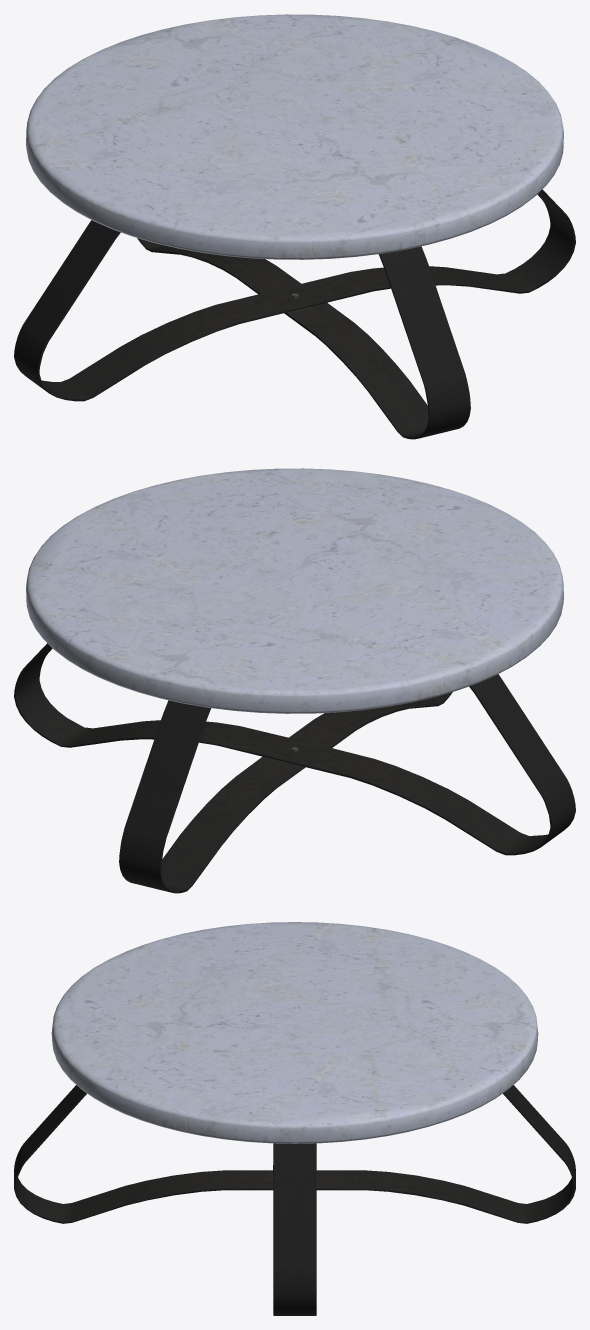
File: coffee_table_round_01.glb
3 views of the same model, one above another, from view 1: azimuth 30°, elevation 25°; view 2: azimuth 150°, elevation 25°; view 3: azimuth 270°, elevation 25° (orthographic). The views are drawn at different scales.
Visible parts, largest first — view 1: coffee_table_round_01; view 2: coffee_table_round_01; view 3: coffee_table_round_01.
Part boxes in pixels (x1,y1,x2,y2): coffee_table_round_01: (14, 14, 575, 439); coffee_table_round_01: (14, 468, 575, 893); coffee_table_round_01: (14, 922, 575, 1315).
Size of the model in its own units: 1.3 by 0.4909 by 1.3.
1 material, 1 textured.
